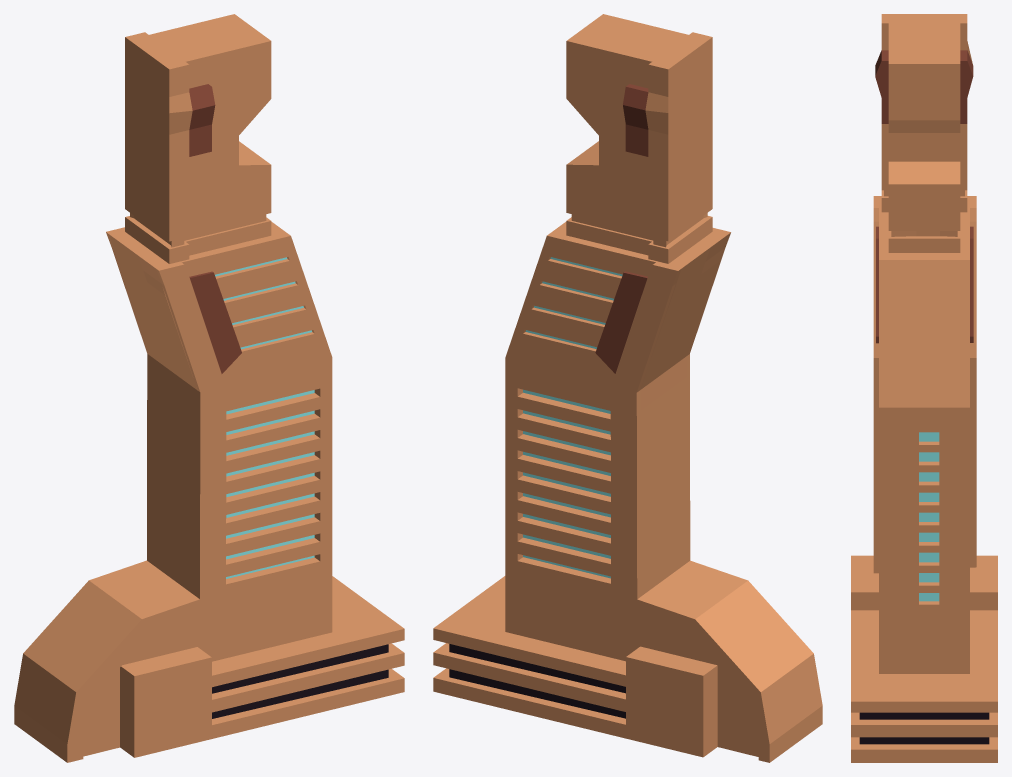
Rendered from building_v3.fbx.
3 renders of one model, left to right at view 1: azimuth 30°, elevation 25°; view 2: azimuth 150°, elevation 25°; view 3: azimuth 270°, elevation 25°, orthographic. The views are drawn at different scales.
Parts seen in each view (by area): view 1: Cube, Plane.001; view 2: Cube, Plane.001; view 3: Cube, Plane.001.
Part boxes in pixels (bbox=[...]): Cube: bbox=[14, 14, 404, 762]; Plane.001: bbox=[189, 271, 241, 373]; Cube: bbox=[433, 14, 822, 762]; Plane.001: bbox=[595, 271, 647, 373]; Cube: bbox=[851, 14, 997, 762]; Plane.001: bbox=[876, 226, 973, 343].
Size of the model in its own units: 1006 by 1962 by 405.
